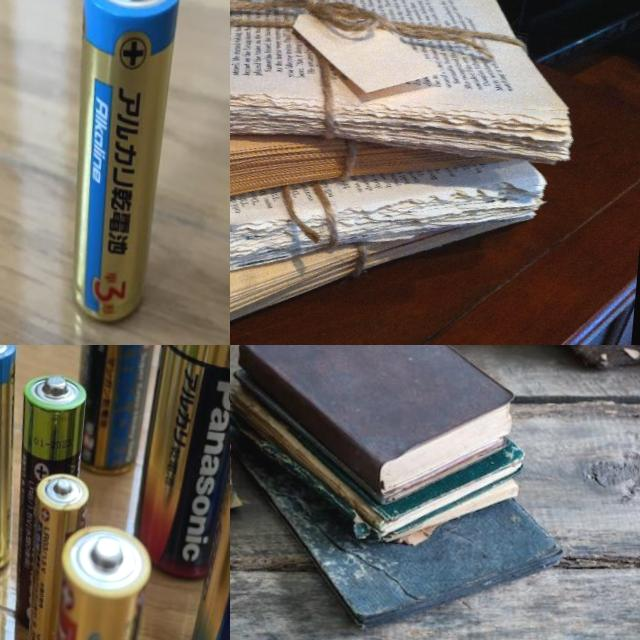bateria: (52, 0, 189, 331), (1, 366, 94, 634), (131, 345, 230, 588), (30, 511, 157, 640), (175, 357, 230, 640), (63, 345, 165, 483), (16, 468, 92, 640), (0, 345, 31, 577)
papel: (230, 0, 586, 345), (230, 345, 584, 640), (230, 345, 271, 588)
